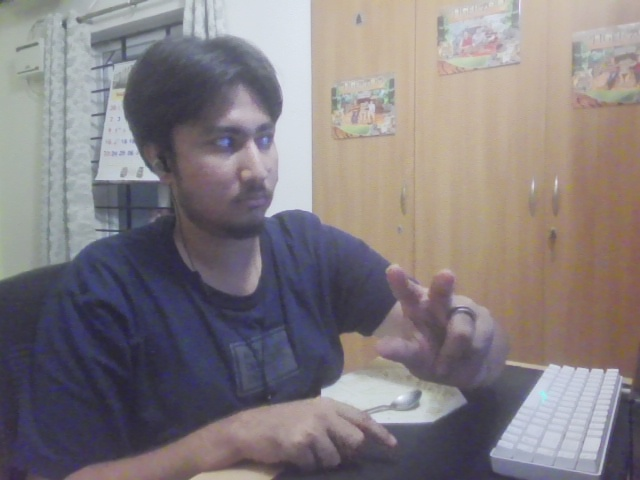no: (359, 249, 513, 394)
